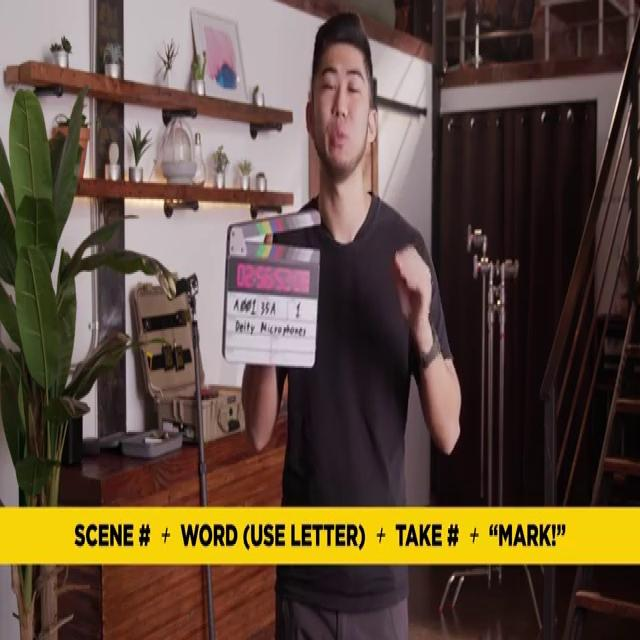Clapperboard: (220, 207, 322, 368)
